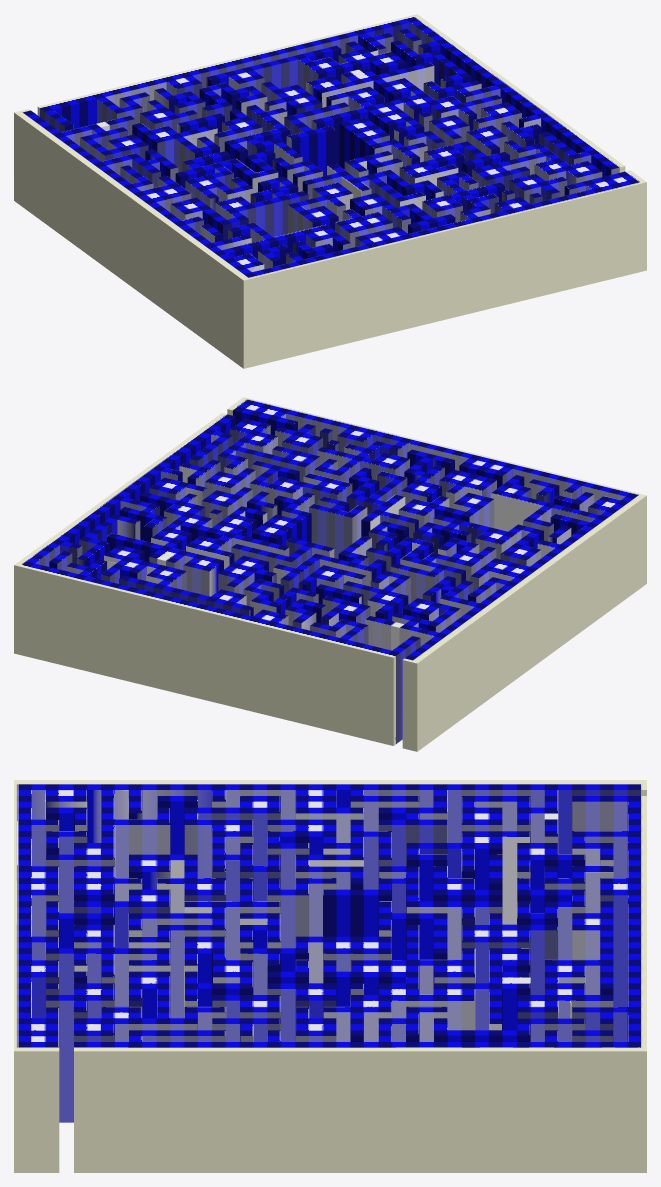
Rendered from wall-only.fbx.
3 renders of one model, top to bottom at view 1: azimuth 30°, elevation 25°; view 2: azimuth 150°, elevation 25°; view 3: azimuth 270°, elevation 25°, orthographic. The views are drawn at different scales.
Visible parts, largest first — view 1: image; view 2: image; view 3: image.
Boxes of the visible parts, x1,y1,x2,y2 form: image: (14, 14, 646, 368); image: (14, 397, 646, 751); image: (14, 780, 646, 1172).
Bounding box in the file's own units: 4778 × 1000 × 4714.
